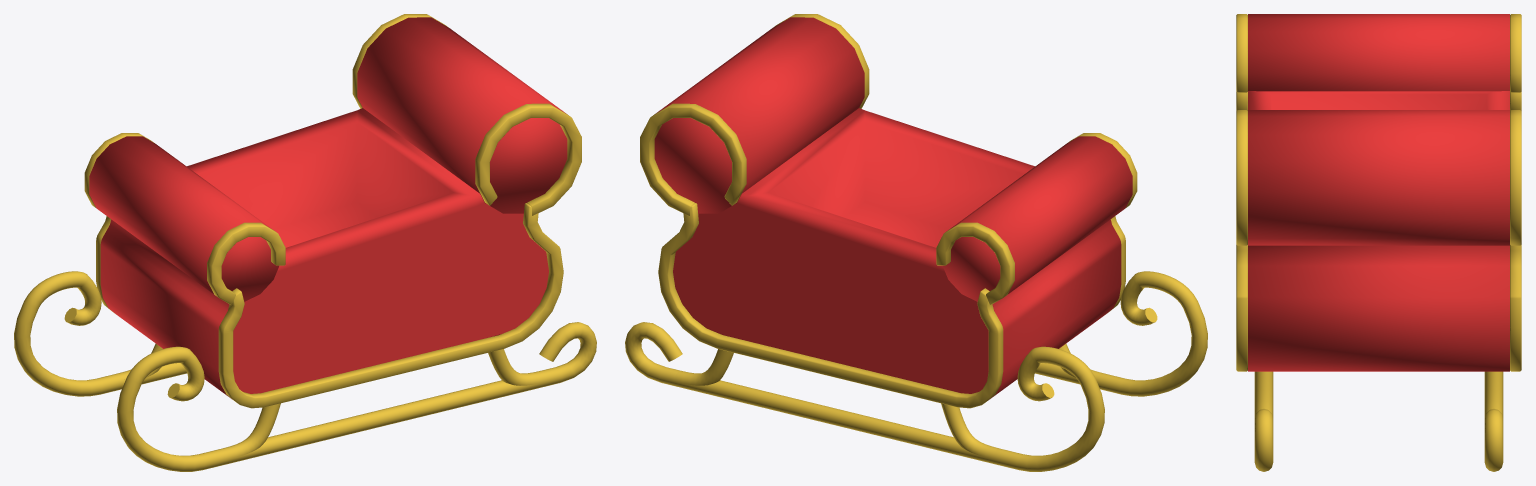
File: trineo escalado.fbx
3 views of the same model, side by side, from view 1: azimuth 30°, elevation 25°; view 2: azimuth 150°, elevation 25°; view 3: azimuth 270°, elevation 25° (orthographic). The views are drawn at different scales.
Visible parts, largest first — view 1: Curva_Bezier; view 2: Curva_Bezier; view 3: Curva_Bezier.
Boxes of the visible parts, bbox=[...] form: Curva_Bezier: bbox=[14, 14, 596, 471]; Curva_Bezier: bbox=[625, 14, 1207, 471]; Curva_Bezier: bbox=[1236, 14, 1521, 471].
Size of the model in its own units: 187 by 110 by 86.82.
